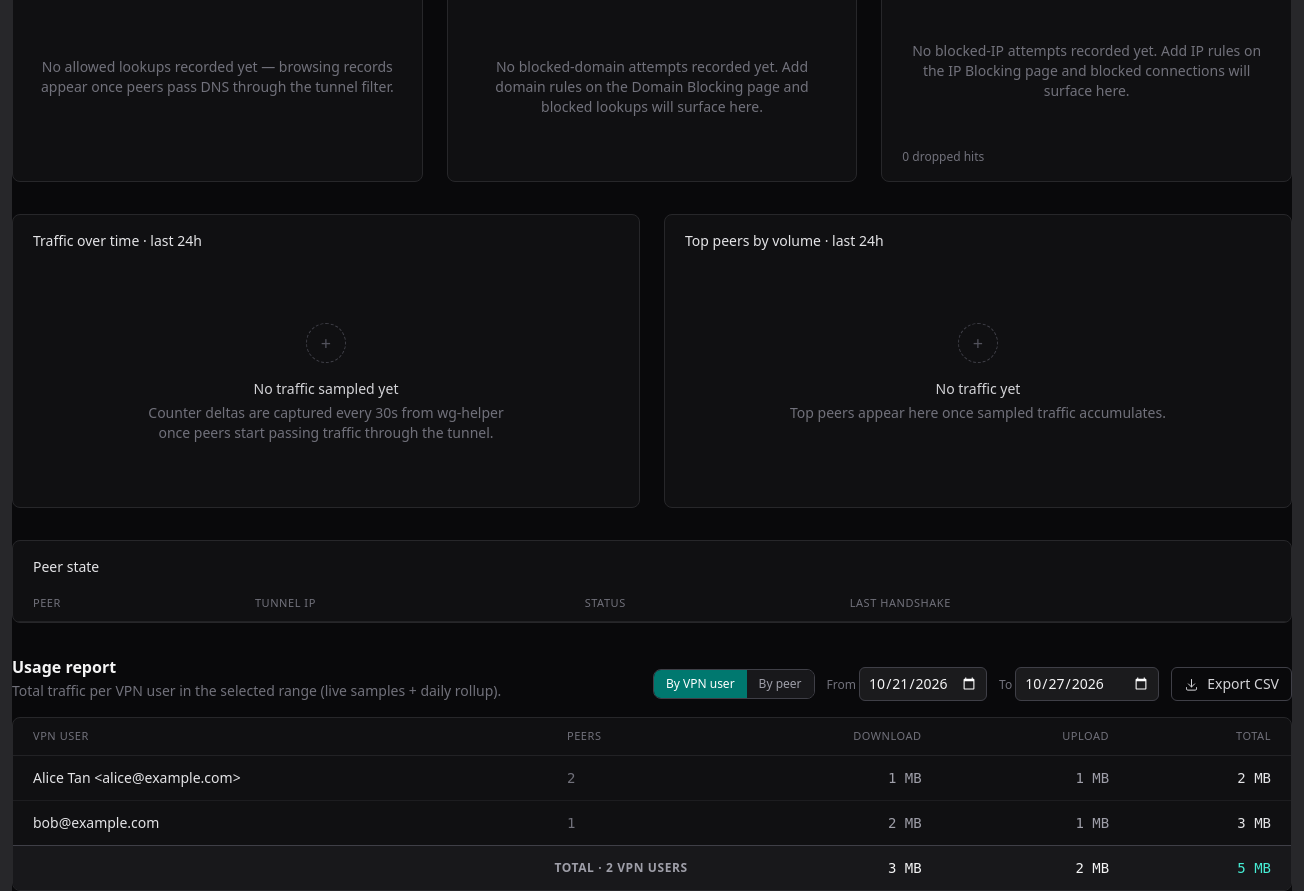
Test: StatisticsPage › sums all peers into a totals footer row
(page scrolled)
Expected: the element showing "Total · 2 VPN users 3 MB 2 MB 5 MB" is shown, [13,845,1291,890]
Step 1. Click the button "By peer" → {"x": 780, "y": 684}, box [747,670,814,698]
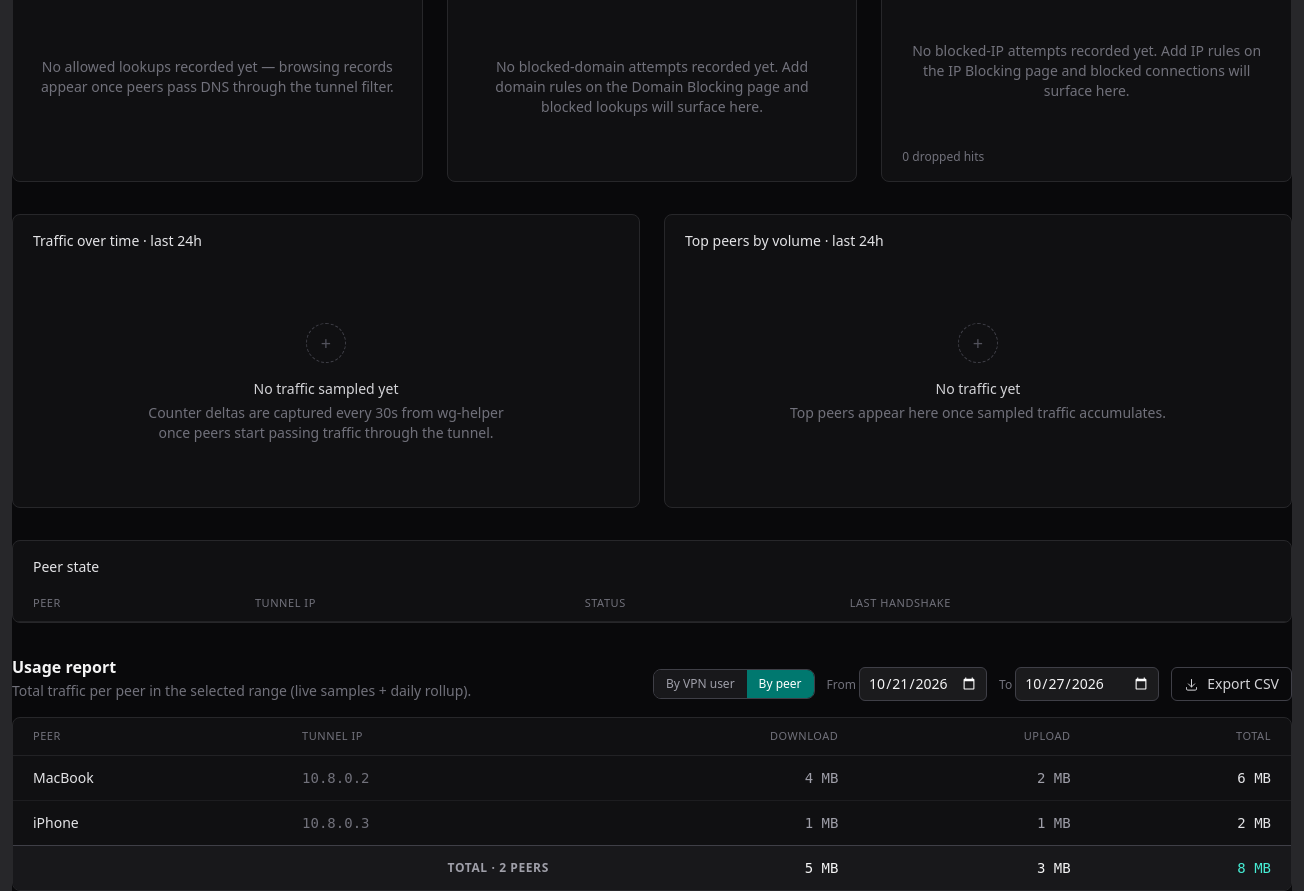
Expected: the element showing "Total · 2 peers 5 MB 3 MB 8 MB" is shown, [13,845,1291,890]
